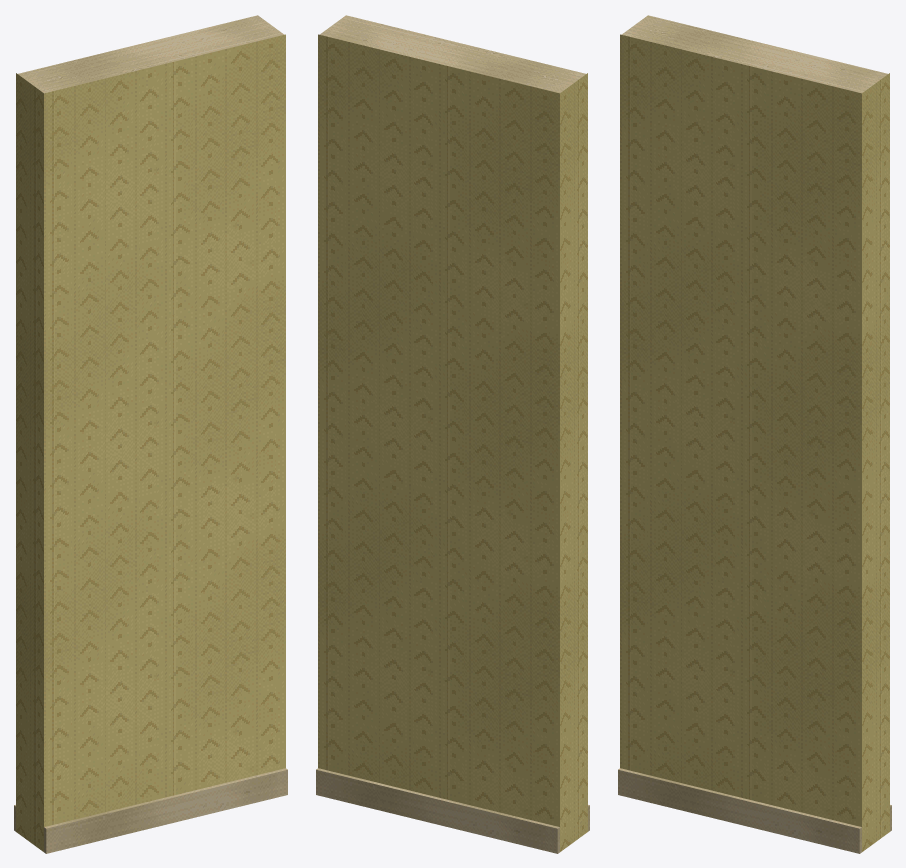
File: back_wall_half.glb
3 renders of one model, left to right at view 1: azimuth 30°, elevation 25°; view 2: azimuth 150°, elevation 25°; view 3: azimuth 330°, elevation 25°, orthographic.
Visible parts, largest first — view 1: back_wall_half; view 2: back_wall_half; view 3: back_wall_half.
Part boxes in pixels (x1=…): back_wall_half: x1=14, y1=15, x2=287, y2=853; back_wall_half: x1=316, y1=15, x2=589, y2=853; back_wall_half: x1=618, y1=15, x2=891, y2=853.
Bounding box in the file's own units: 1 × 3 × 0.23.
Materials: 2 (2 with a texture image).
